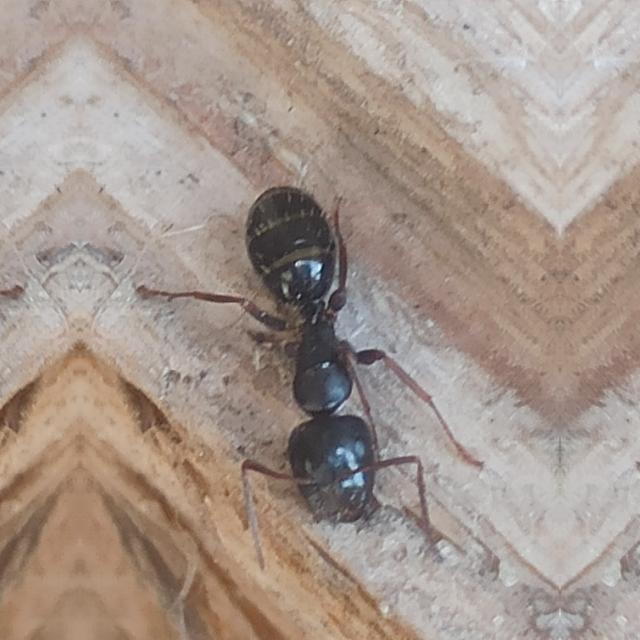Camponotus: (203, 135, 447, 570)
